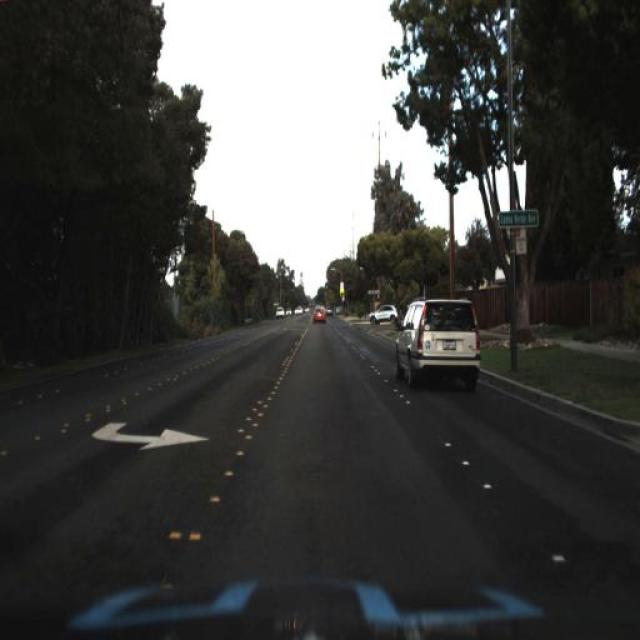car: (395, 298, 484, 390), (368, 299, 399, 323), (312, 304, 330, 325)
